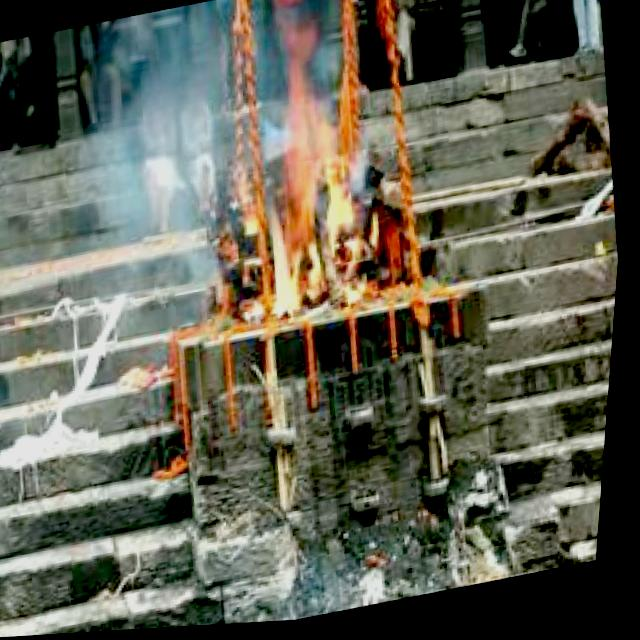Fire: (241, 96, 380, 327)
